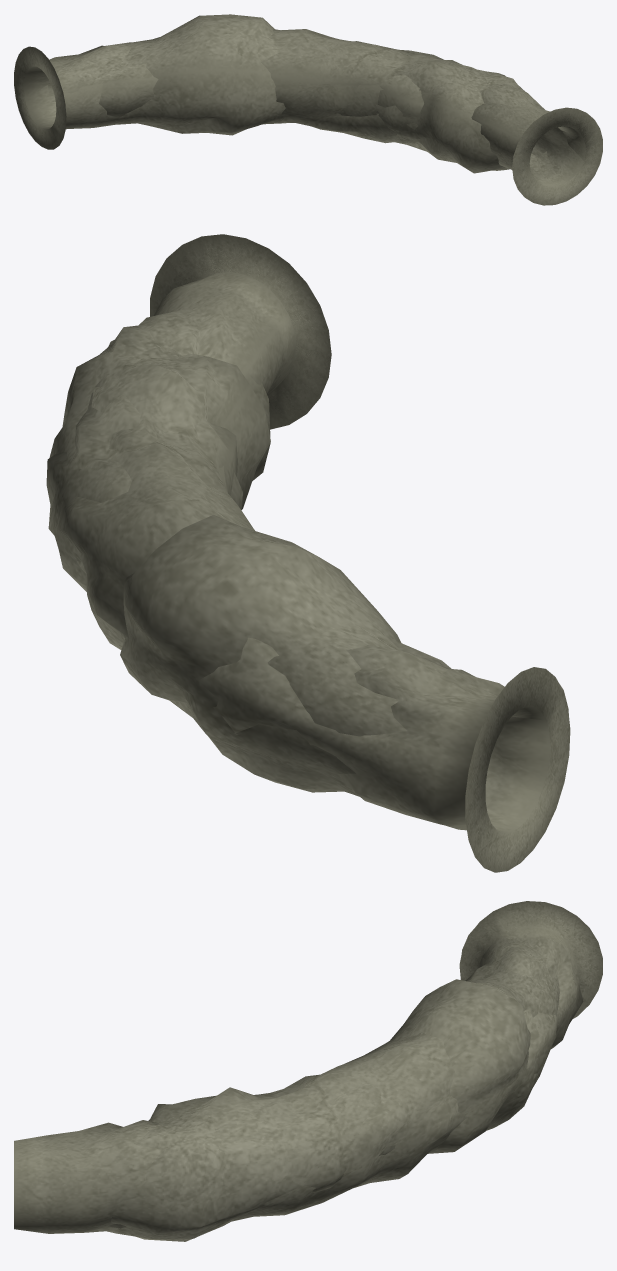
Rendered from Meanderf.fbx.
The picture shows the model from 3 angles, top to bottom: view 1: azimuth 30°, elevation 25°; view 2: azimuth 150°, elevation 25°; view 3: azimuth 270°, elevation 25°; orthographic projection. The views are drawn at different scales.
Visible parts, largest first — view 1: Meander_3, Meander_1, Meander_2; view 2: Meander_1, Meander_3, Meander_2; view 3: Meander_1, Meander_3.
Boxes of the visible parts, <box> form: Meander_3: <box>26,14,602,205</box>; Meander_1: <box>17,29,602,205</box>; Meander_2: <box>14,47,601,202</box>; Meander_1: <box>46,234,540,830</box>; Meander_3: <box>48,234,570,853</box>; Meander_2: <box>150,235,569,872</box>; Meander_1: <box>14,901,602,1233</box>; Meander_3: <box>107,901,602,1241</box>.
Size of the model in its own units: 105 by 28.84 by 105.
1 material, 1 textured.
